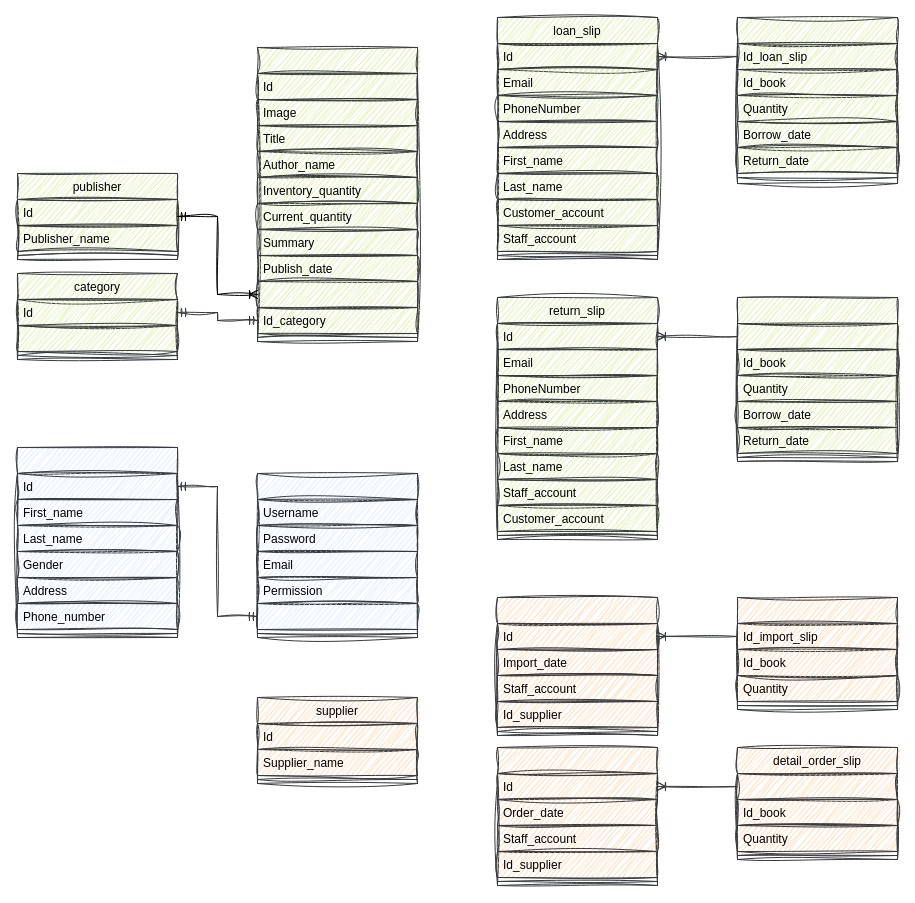
This 915x903 diagram has some shape labels left out. Each missing label, with the box of its shape:
account: (256, 472, 418, 638)
book: (256, 46, 418, 342)
Category_name: (16, 324, 178, 352)
detail_import_slip: (736, 596, 898, 710)
detail_loan_slip: (736, 16, 898, 184)
detail_return_slip: (736, 296, 898, 462)
Id_order_slip: (736, 772, 898, 800)
Id_publisher: (256, 280, 418, 308)
Id_return_slip: (736, 322, 898, 350)
Id_user: (256, 602, 418, 630)
import_slip: (496, 596, 658, 736)
order_slip: (496, 746, 658, 886)
user: (16, 446, 178, 638)
